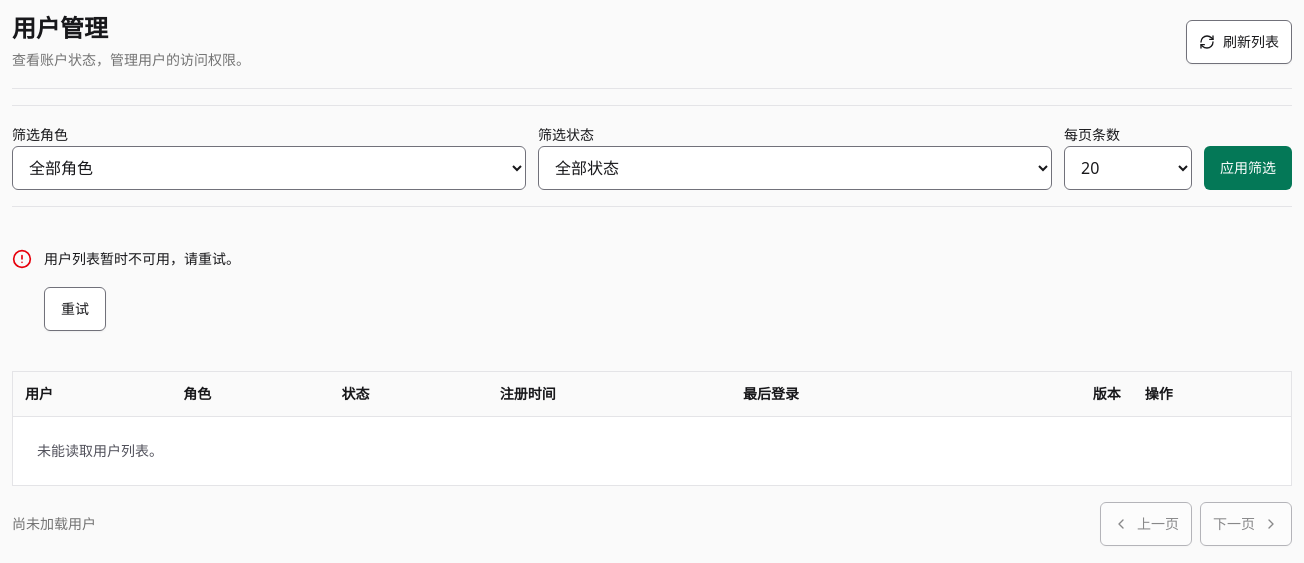
admin/users client › loads the exact management page, keeps self controls absent and separates a failed list from an empty list
The width and height of the screenshot is (1304, 563).
Expected: the message shows "用户列表暂时不可用", [44, 249, 240, 268]
Expected: the text "当前筛选下无用户。" is not shown
Click the button "刷新列表".
click(1239, 42)  # box [1186, 20, 1292, 64]
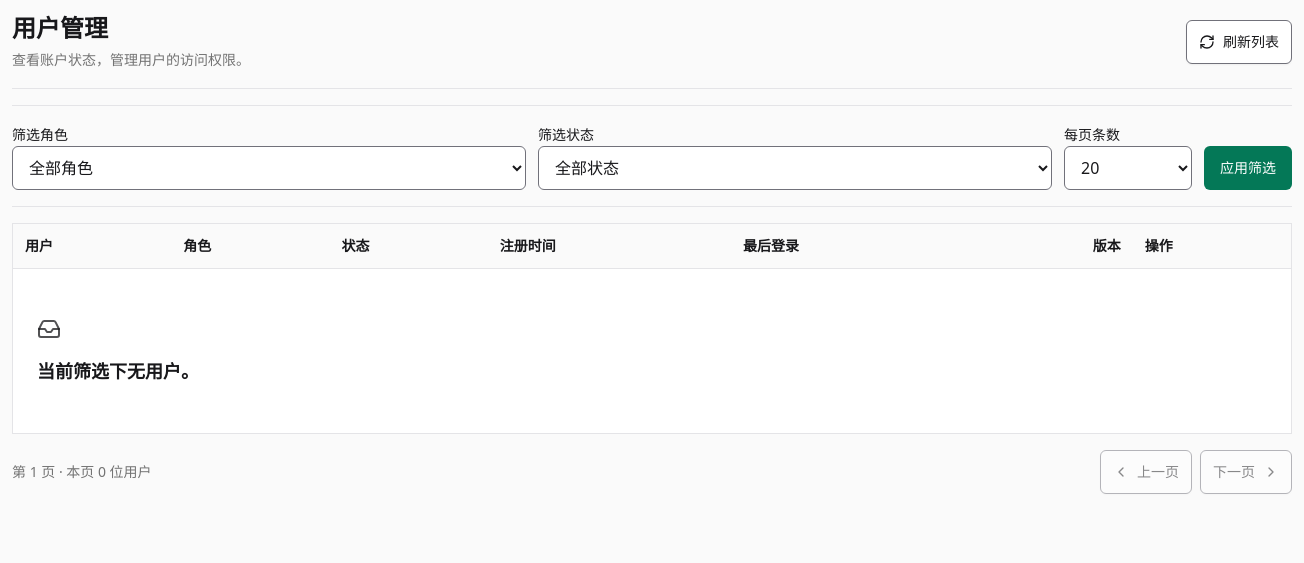
Expected: the button "下一页" is disabled, [1200, 450, 1292, 494]
Result: the heading "当前筛选下无用户。" is shown at [37, 357, 199, 385]
Click the button "刷新列表".
click(1239, 42)  # box [1186, 20, 1292, 64]
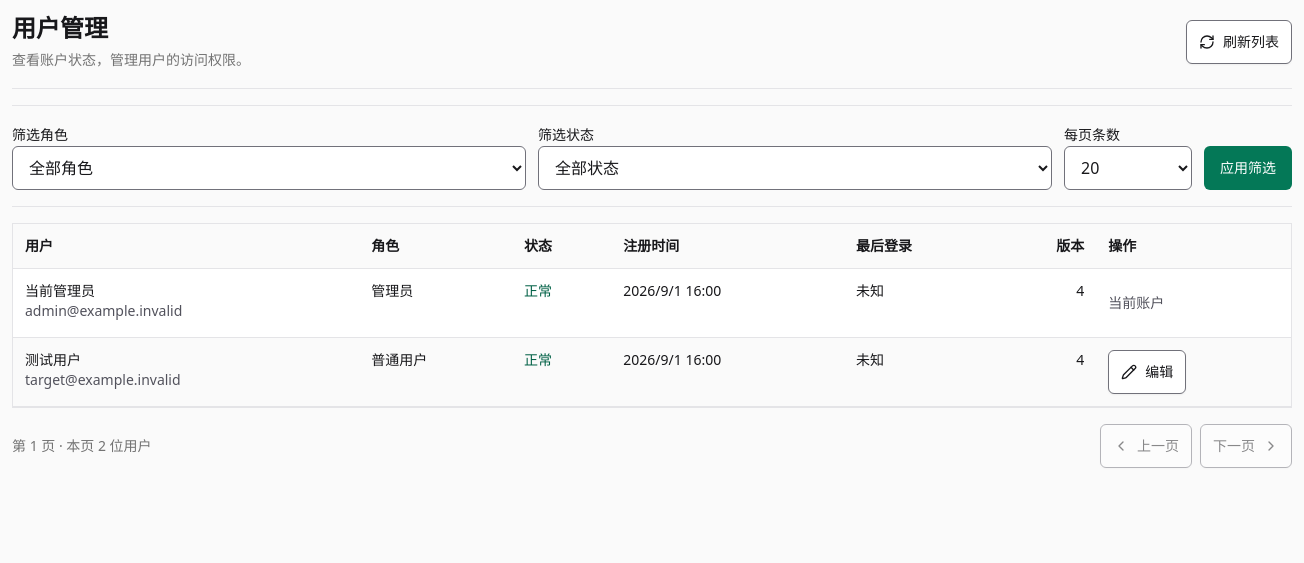
Result: the text "当前账户" is shown at [1108, 293, 1164, 312]
